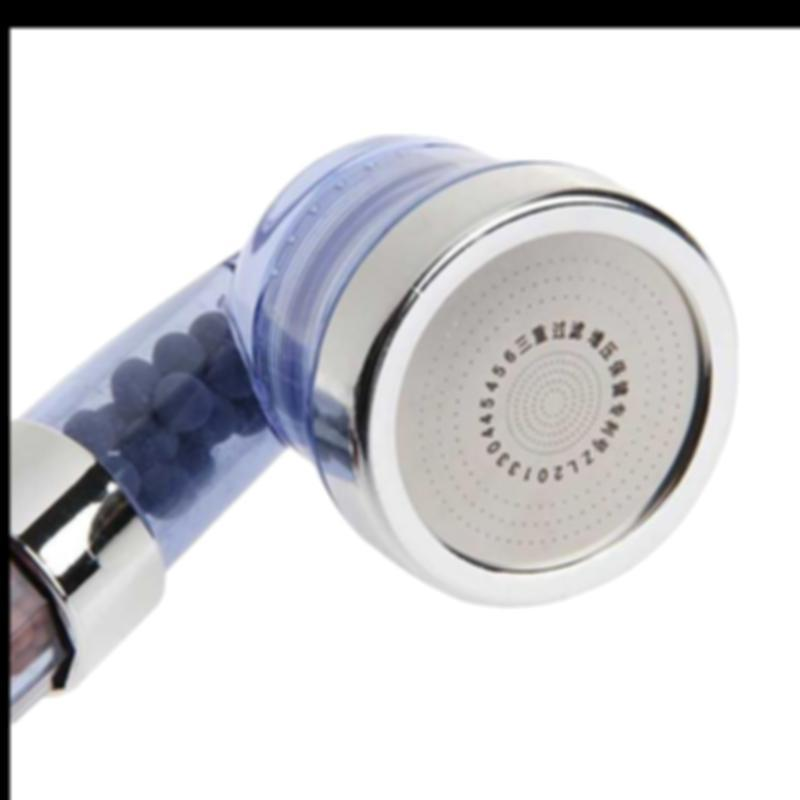Ducha: (10, 104, 757, 679)
